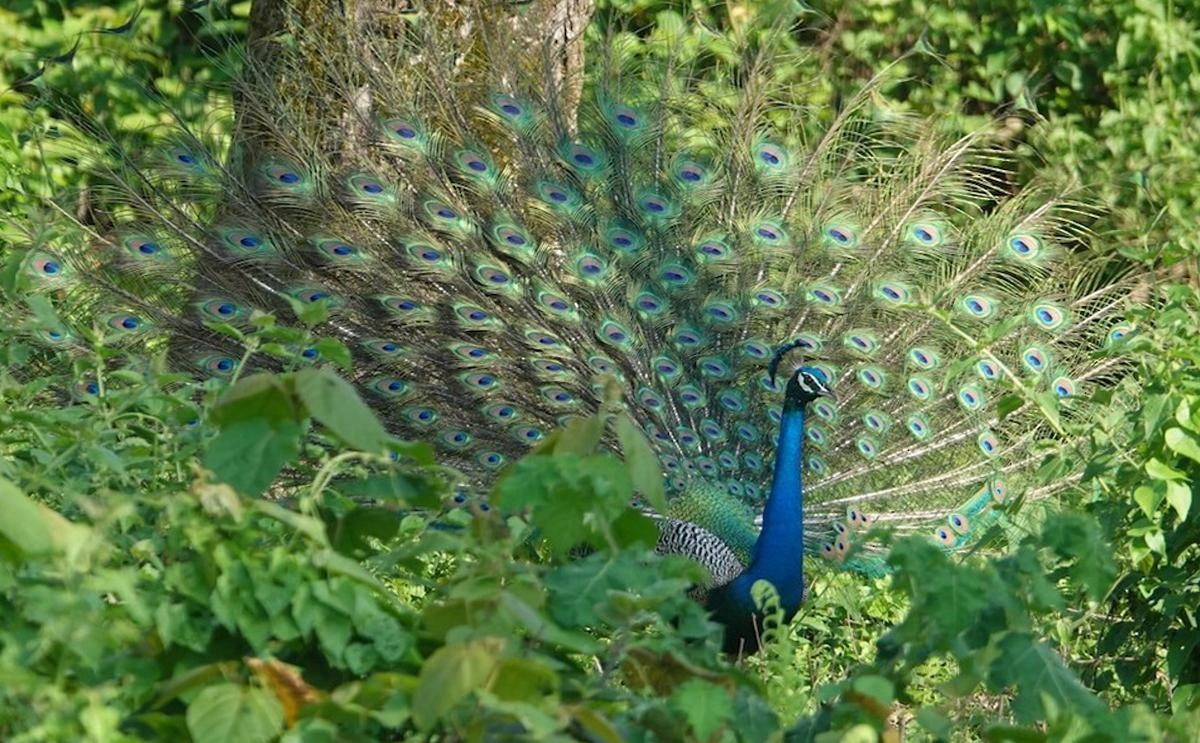peacock: (338, 131, 1105, 688)
